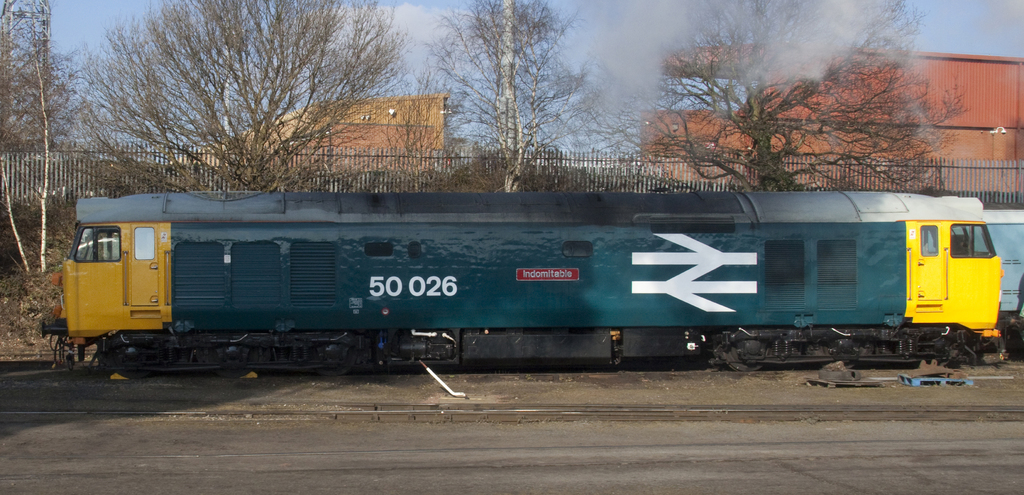train: (36, 183, 1004, 369)
